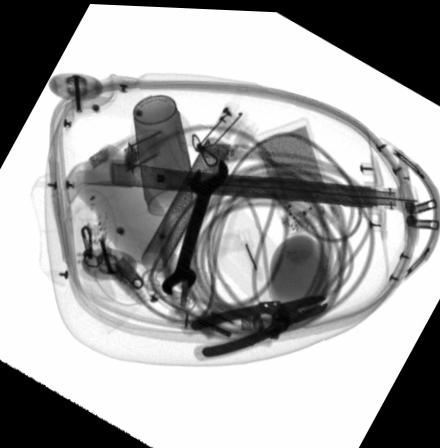Pliers: (190, 292, 327, 355)
Powerbank: (253, 113, 340, 235)
Wrench: (163, 157, 228, 294)
